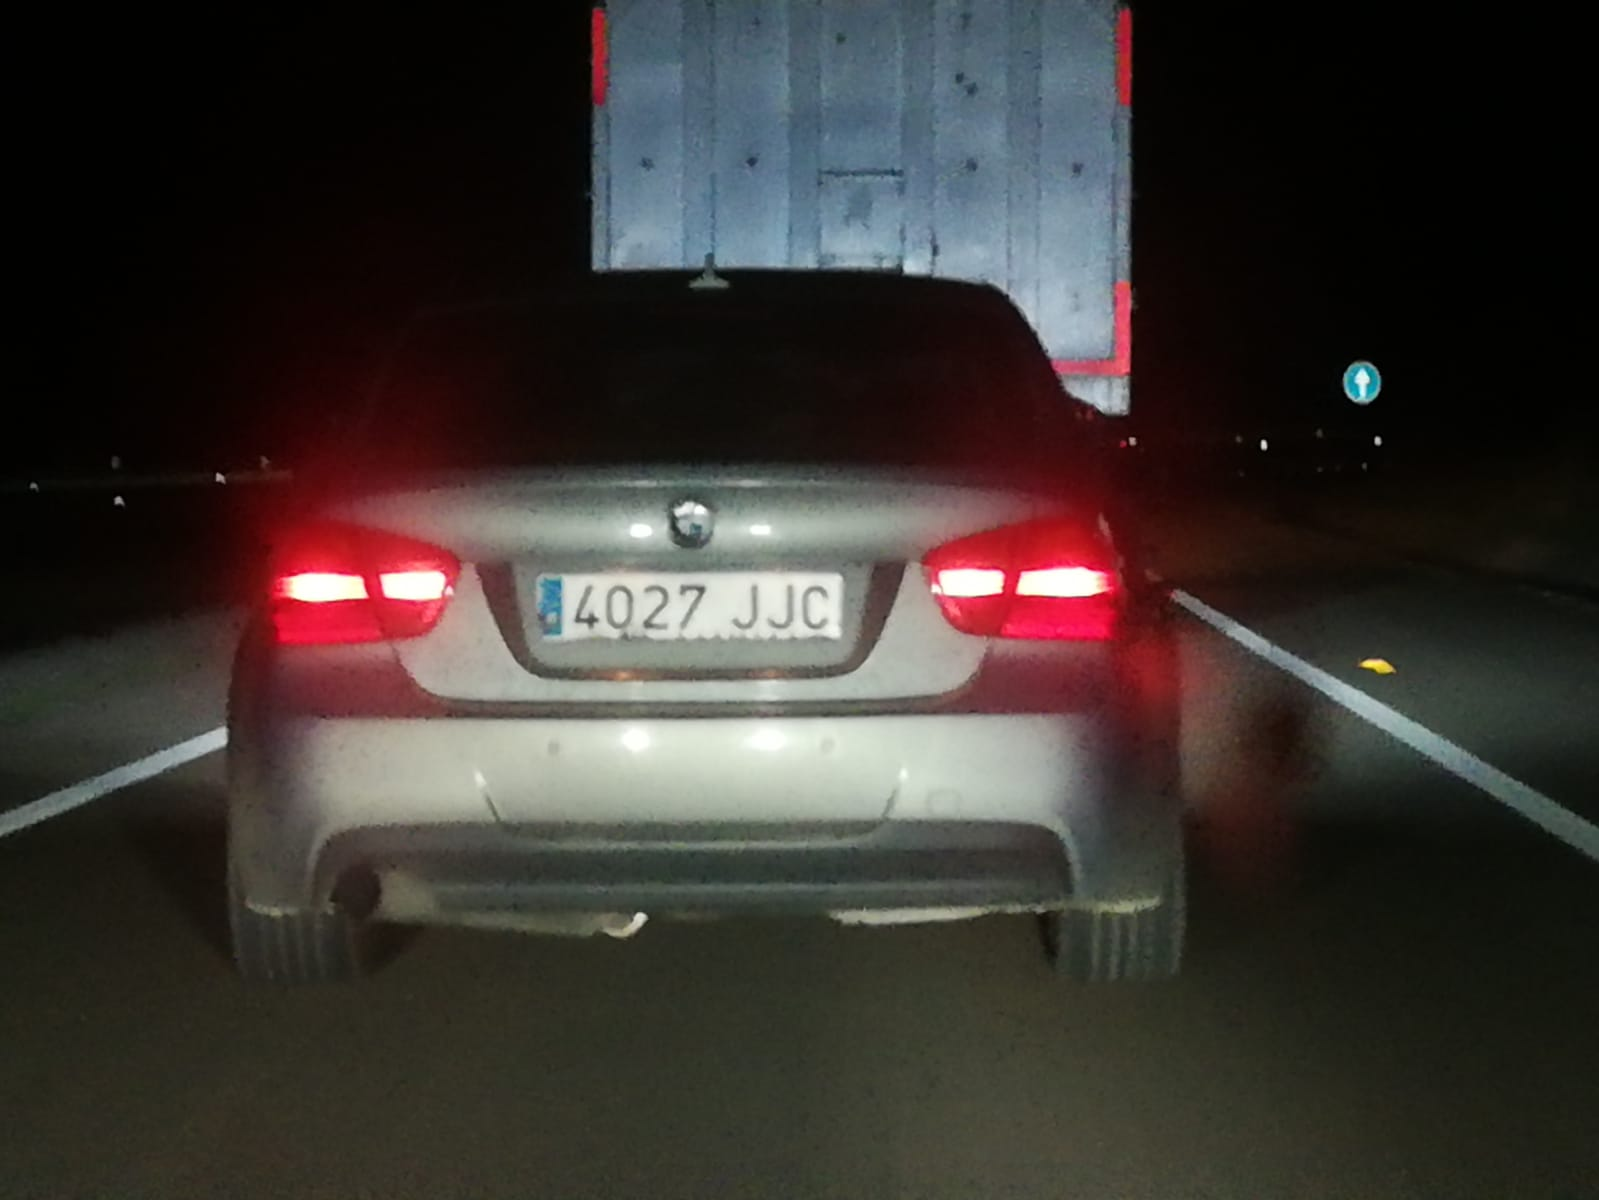Car: (225, 260, 1197, 996)
Plate: (539, 573, 841, 643)
